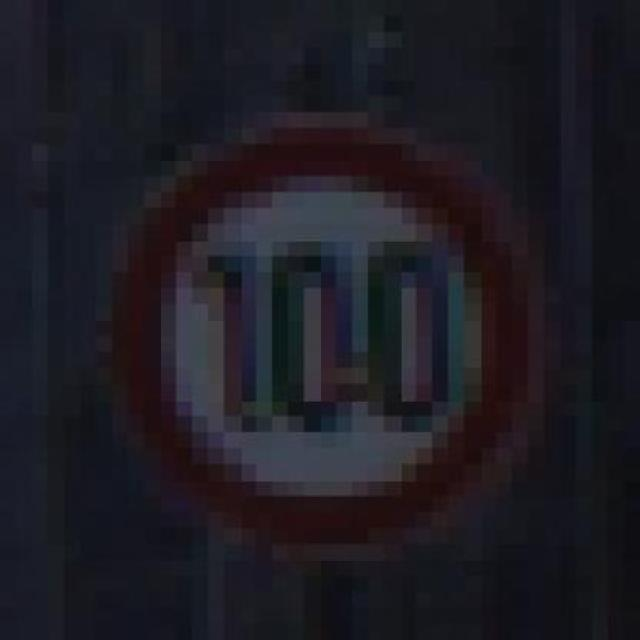forb_speed_over_100: (114, 123, 529, 543)
